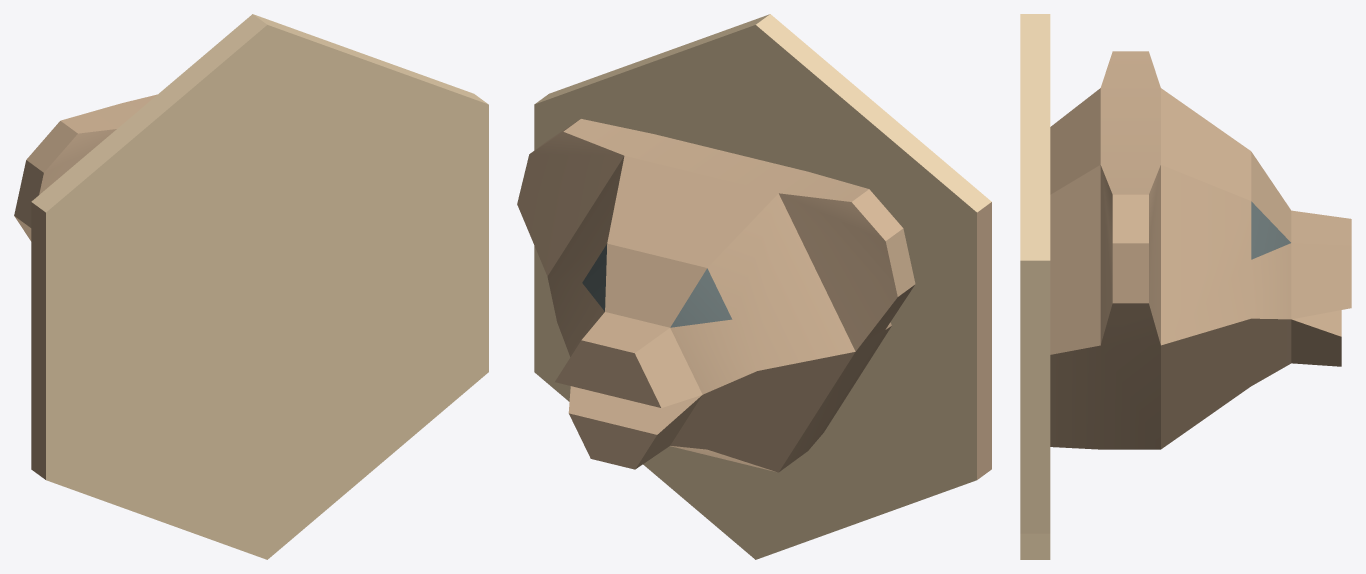
File: bear.glb
3 views of the same model, side by side, from view 1: azimuth 30°, elevation 25°; view 2: azimuth 150°, elevation 25°; view 3: azimuth 270°, elevation 25° (orthographic). The views are drawn at different scales.
Visible parts, largest first — view 1: bear; view 2: bear; view 3: bear.
Part boxes in pixels (<box>): bear: <box>14,14,488,559</box>; bear: <box>517,14,991,559</box>; bear: <box>1020,14,1351,559</box>.
Size of the model in its own units: 3.9 by 4.5 by 2.47.
